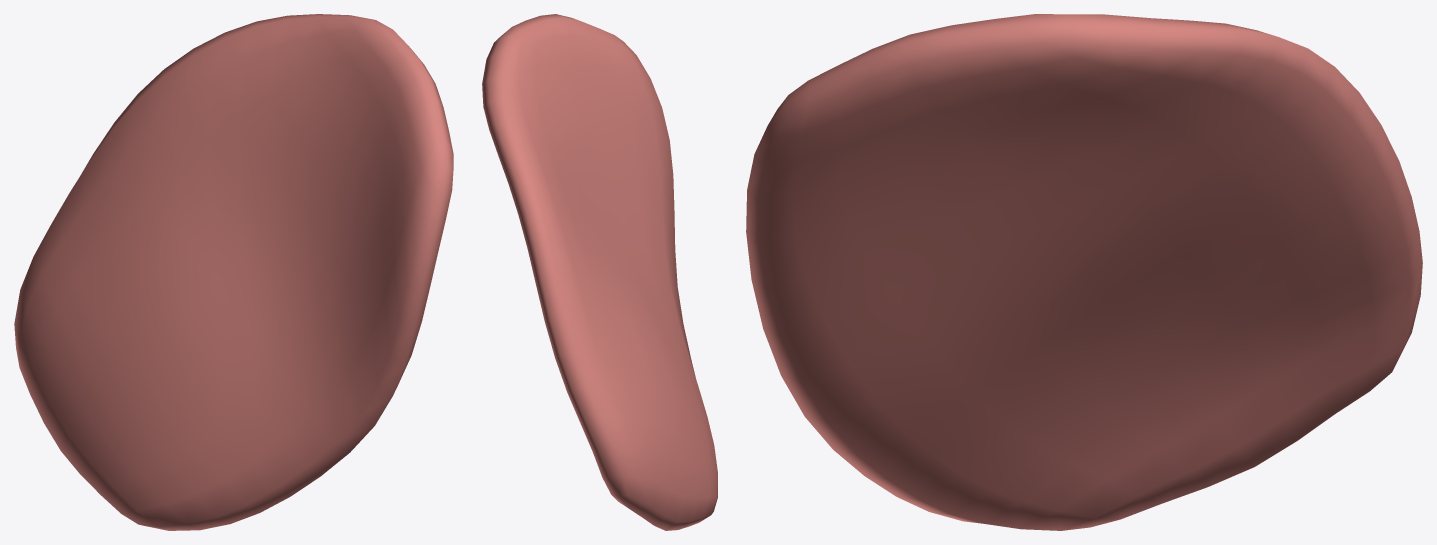
The picture shows the model from 3 angles, left to right: view 1: azimuth 30°, elevation 25°; view 2: azimuth 150°, elevation 25°; view 3: azimuth 270°, elevation 25°; orthographic projection. The views are drawn at different scales.
Parts seen in each view (by area): view 1: ZA_7a507344c5b9a3c5; view 2: ZA_7a507344c5b9a3c5; view 3: ZA_7a507344c5b9a3c5.
Part boxes in pixels (x1,y1,x2,y2): ZA_7a507344c5b9a3c5: [14, 14, 453, 530]; ZA_7a507344c5b9a3c5: [482, 14, 717, 530]; ZA_7a507344c5b9a3c5: [746, 14, 1422, 530].
Bounding box in the file's own units: 0.00752 × 0.0124 × 0.0115.
